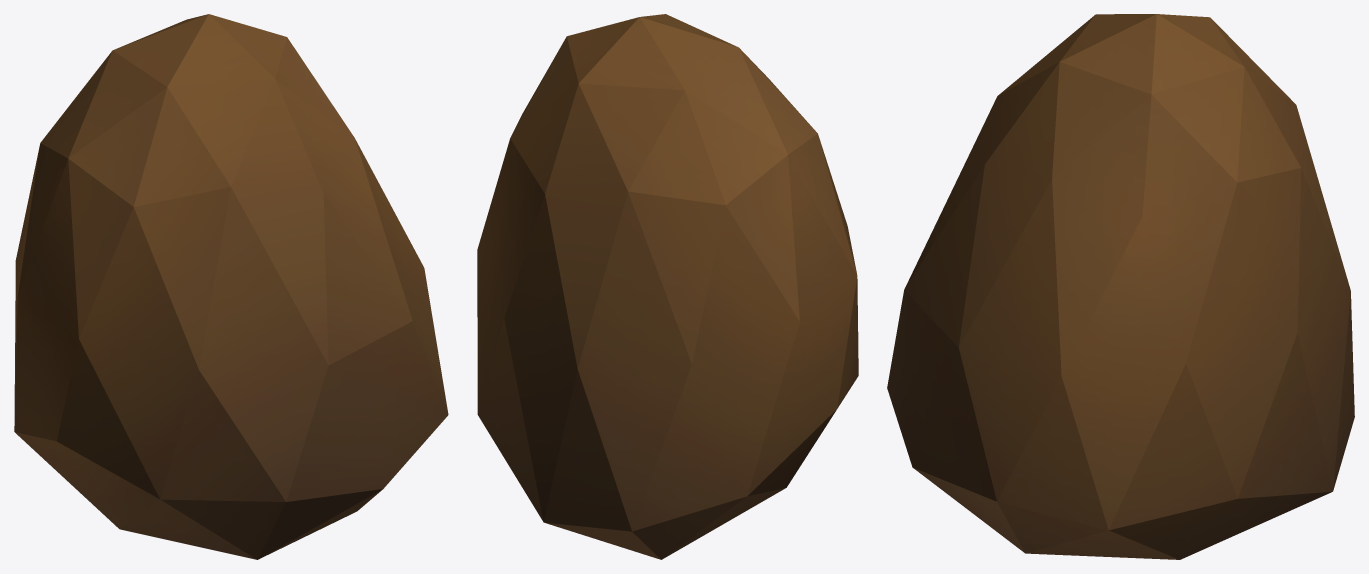
Rendered from rock-2.fbx.
3 renders of one model, left to right at view 1: azimuth 30°, elevation 25°; view 2: azimuth 150°, elevation 25°; view 3: azimuth 270°, elevation 25°, orthographic. The views are drawn at different scales.
Visible parts, largest first — view 1: Icosphere.002; view 2: Icosphere.002; view 3: Icosphere.002.
Part boxes in pixels (x1,y1,x2,y2): Icosphere.002: (14,14,448,559); Icosphere.002: (477,14,858,559); Icosphere.002: (887,14,1354,559).
Bounding box in the file's own units: 994 × 1329 × 1069.
